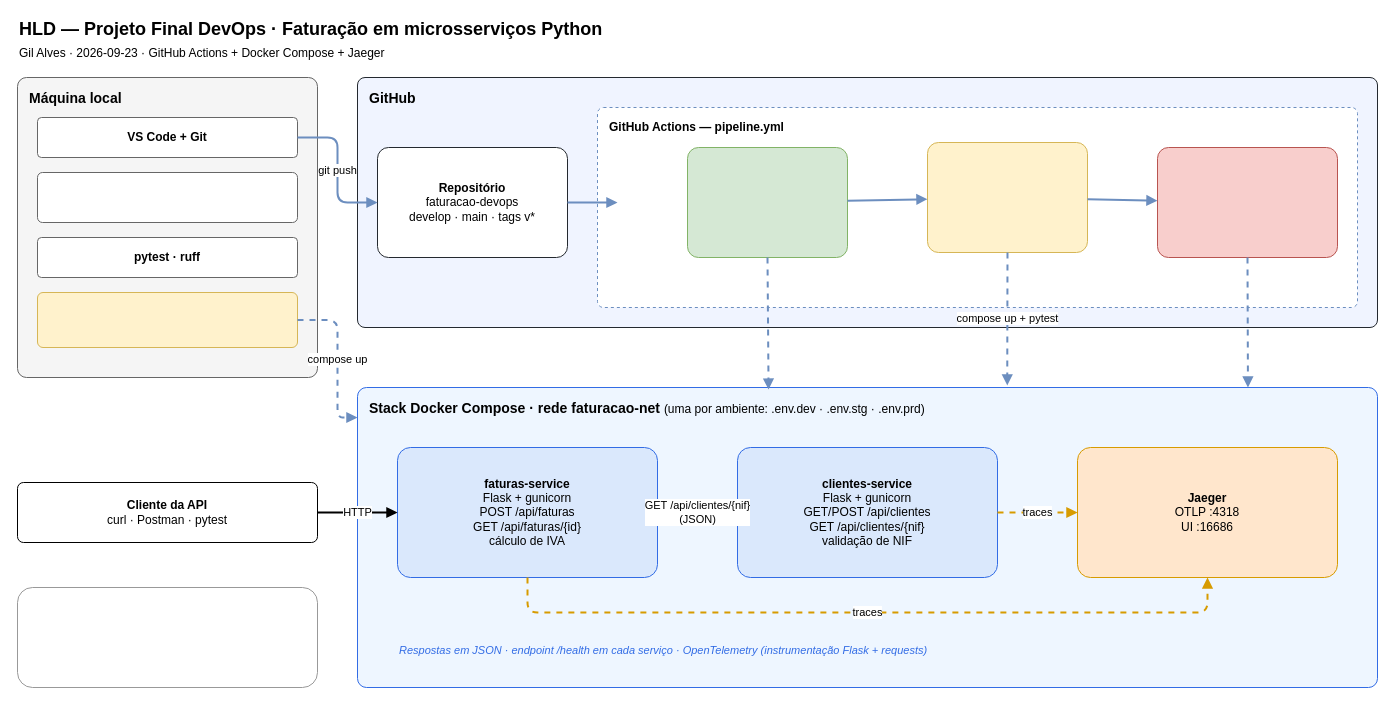
Image size: 1395x705. Some labels were removed from this diagram. The box of each missing label's shape, as (x1, y1, x2, y2) in pixels:
DEV environment: dev branch develop + main testes unitários + ruff: (686, 146, 848, 258)
Docker + Docker Compose testes locais: (36, 292, 298, 348)
Legenda ━━▶ pedido HTTP/JSON ━━▶ pipeline CI/CD ┅┅▶ traces OpenTelemetry: (16, 586, 318, 688)
PRD environment: prd aprovação smoke tests: (1156, 146, 1338, 258)
Python venv requirements.txt: (36, 172, 298, 222)
STG environment: stg branch main testes de integração: (926, 142, 1088, 252)
